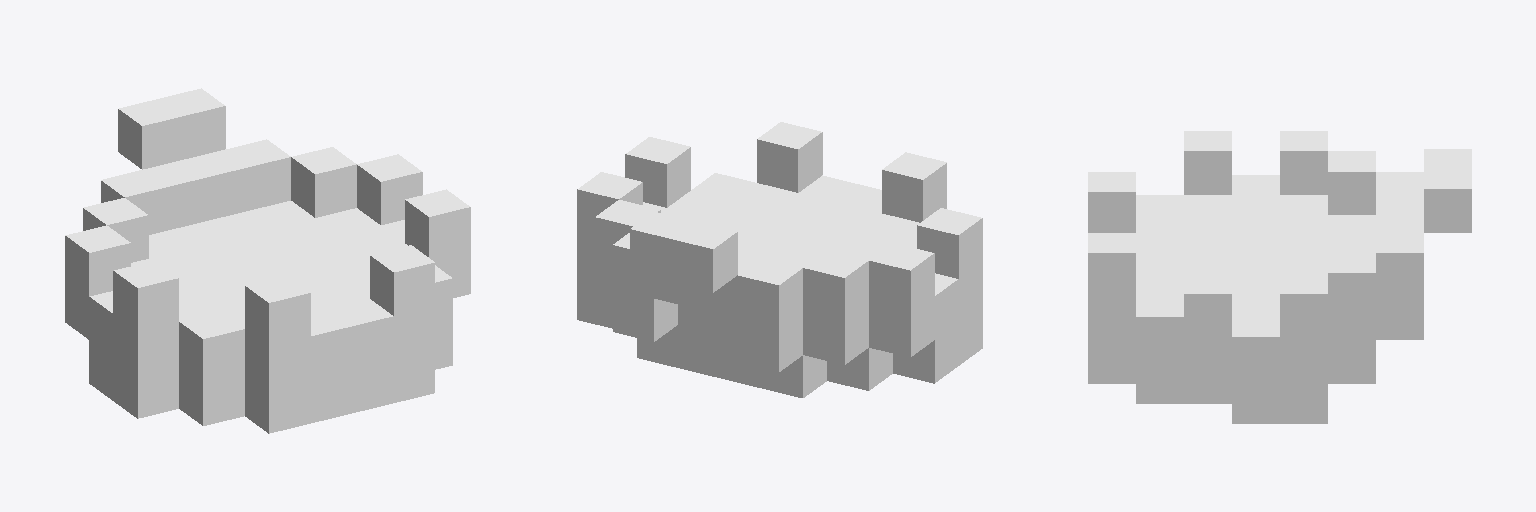
The model's file is caveira-0.obj.
The picture shows the model from 3 angles: view 1: azimuth 30°, elevation 25°; view 2: azimuth 150°, elevation 25°; view 3: azimuth 270°, elevation 25°; orthographic projection.
Parts seen in each view (by area): view 1: object 1; view 2: object 1; view 3: object 1.
Boxes of the visible parts, <box> form: object 1: <box>65,88,470,433</box>; object 1: <box>577,122,982,397</box>; object 1: <box>1088,131,1471,423</box>.
Bounding box in the file's own units: 0.8 × 0.4 × 0.8.